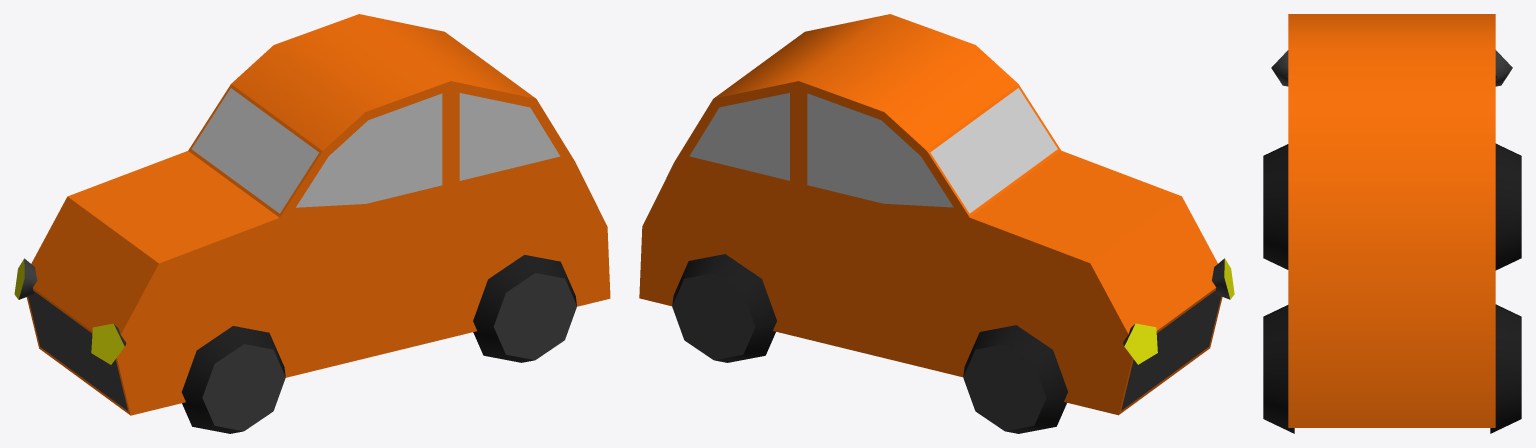
The model's file is Wooden_Car_C.FBX.
3 renders of one model, left to right at view 1: azimuth 30°, elevation 25°; view 2: azimuth 150°, elevation 25°; view 3: azimuth 270°, elevation 25°, orthographic. The views are drawn at different scales.
Parts seen in each view (by area): view 1: Wooden_Car; view 2: Wooden_Car; view 3: Wooden_Car.
Boxes of the visible parts, bbox=[...] form: Wooden_Car: bbox=[14, 14, 610, 433]; Wooden_Car: bbox=[639, 14, 1234, 433]; Wooden_Car: bbox=[1263, 14, 1521, 433].
Size of the model in its own units: 112 by 63.34 by 43.43.
